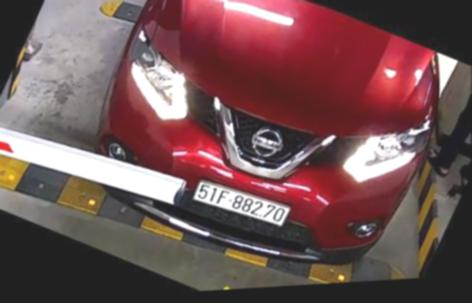License_Plate: (187, 172, 295, 234)
